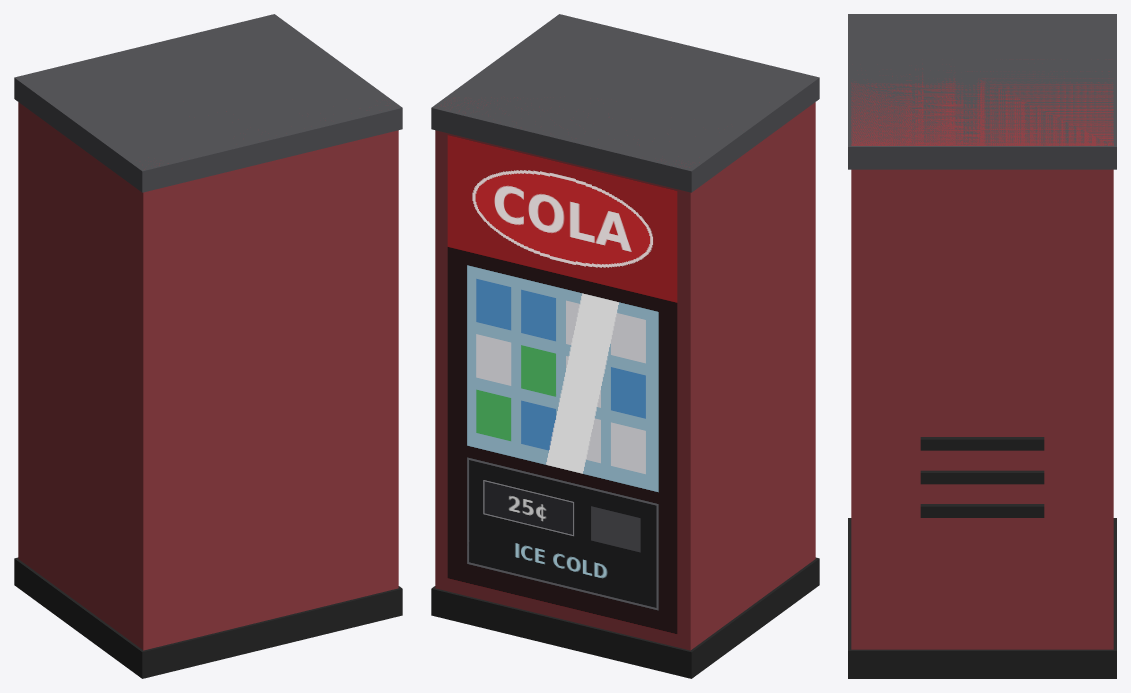
The model's file is WK_PRP_VendingMachine.glb.
3 renders of one model, left to right at view 1: azimuth 30°, elevation 25°; view 2: azimuth 150°, elevation 25°; view 3: azimuth 270°, elevation 25°, orthographic. The views are drawn at different scales.
Visible parts, largest first — view 1: WK_PRP_VendingMachine_P01, WK_PRP_VendingMachine_P02, WK_PRP_VendingMachine_P03; view 2: WK_PRP_VendingMachine_P04, WK_PRP_VendingMachine_P01, WK_PRP_VendingMachine_P02, WK_PRP_VendingMachine_P03; view 3: WK_PRP_VendingMachine_P01, WK_PRP_VendingMachine_P02, WK_PRP_VendingMachine_P03, WK_PRP_VendingMachine_P06, WK_PRP_VendingMachine_P05, WK_PRP_VendingMachine_P07.
Boxes of the visible parts, x1,y1,x2,y2 form: WK_PRP_VendingMachine_P01: [18, 102, 398, 650]; WK_PRP_VendingMachine_P02: [14, 14, 402, 192]; WK_PRP_VendingMachine_P03: [14, 557, 402, 678]; WK_PRP_VendingMachine_P04: [447, 135, 677, 634]; WK_PRP_VendingMachine_P01: [435, 97, 815, 650]; WK_PRP_VendingMachine_P02: [431, 14, 819, 192]; WK_PRP_VendingMachine_P03: [431, 557, 819, 678]; WK_PRP_VendingMachine_P01: [851, 59, 1113, 649]; WK_PRP_VendingMachine_P02: [848, 14, 1116, 169]; WK_PRP_VendingMachine_P03: [848, 518, 1116, 678]; WK_PRP_VendingMachine_P06: [920, 470, 1044, 484]; WK_PRP_VendingMachine_P05: [920, 504, 1044, 517]; WK_PRP_VendingMachine_P07: [920, 437, 1044, 450].
Bounding box in the file's own units: 1.03 × 1.9 × 0.87.
4 materials, 1 textured.
